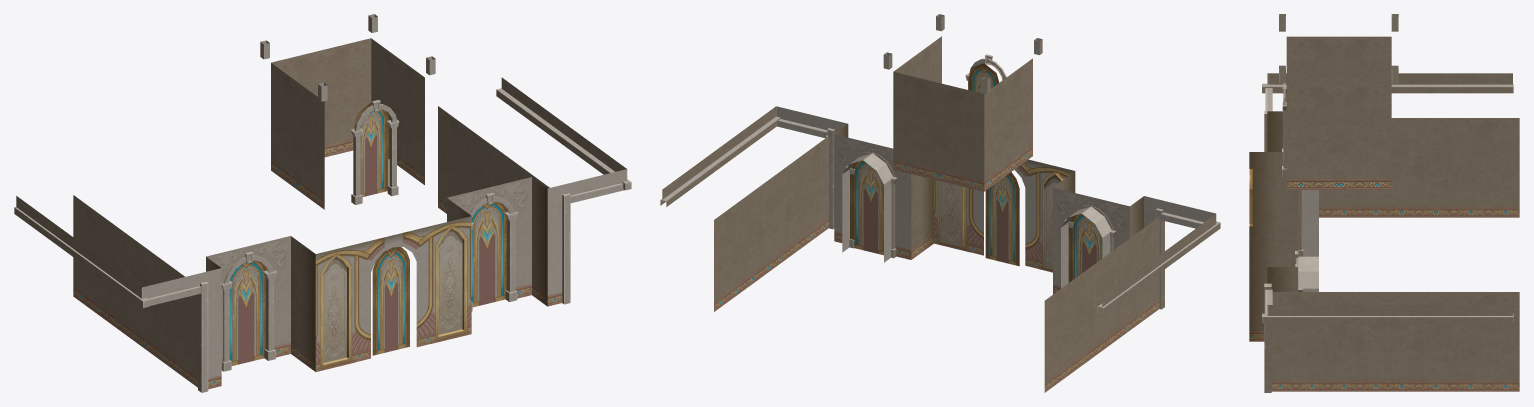
File: zhucheng_wangcheng02.FBX
3 renders of one model, left to right at view 1: azimuth 30°, elevation 25°; view 2: azimuth 150°, elevation 25°; view 3: azimuth 270°, elevation 25°, orthographic. The views are drawn at different scales.
Visible parts, largest first — view 1: zhucheng_wangcheng02; view 2: zhucheng_wangcheng02; view 3: zhucheng_wangcheng02.
Part boxes in pixels (x1=…): zhucheng_wangcheng02: x1=14, y1=14, x2=631, y2=392; zhucheng_wangcheng02: x1=660, y1=14, x2=1220, y2=392; zhucheng_wangcheng02: x1=1249, y1=14, x2=1519, y2=392.
Bounding box in the file's own units: 3032 × 1599 × 1486.
